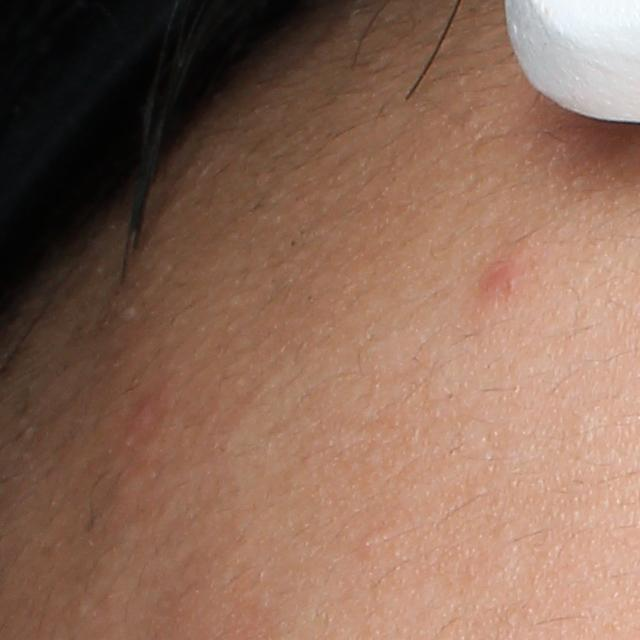comedo: (359, 537, 374, 554)
papule: (477, 249, 534, 302)
